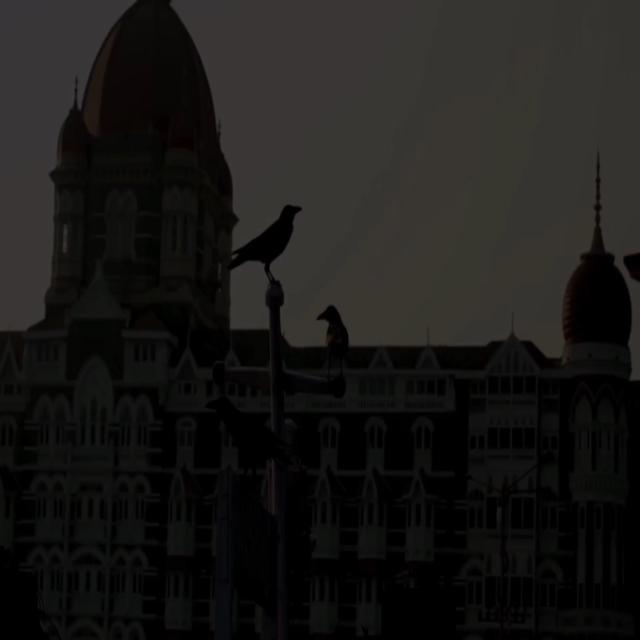bird: (191, 358, 311, 508), (216, 193, 320, 300), (301, 282, 370, 379)
